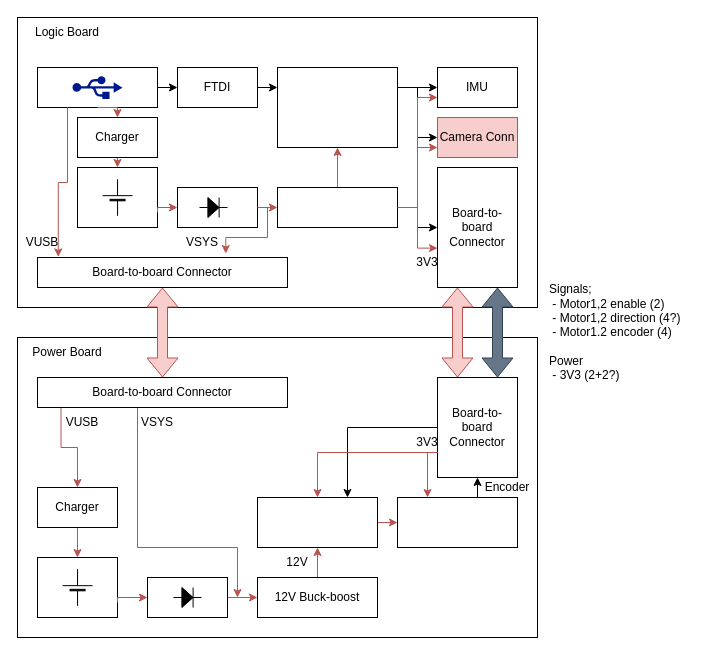
This 725x655 diagram has some shape labels left out. The centre of each missing label's shape, as x and y in pixels:
3V3 Buck Boost: (337,207)
ESP32: (337,107)
Motor Drivers: (317,522)
Motors: (457,522)
